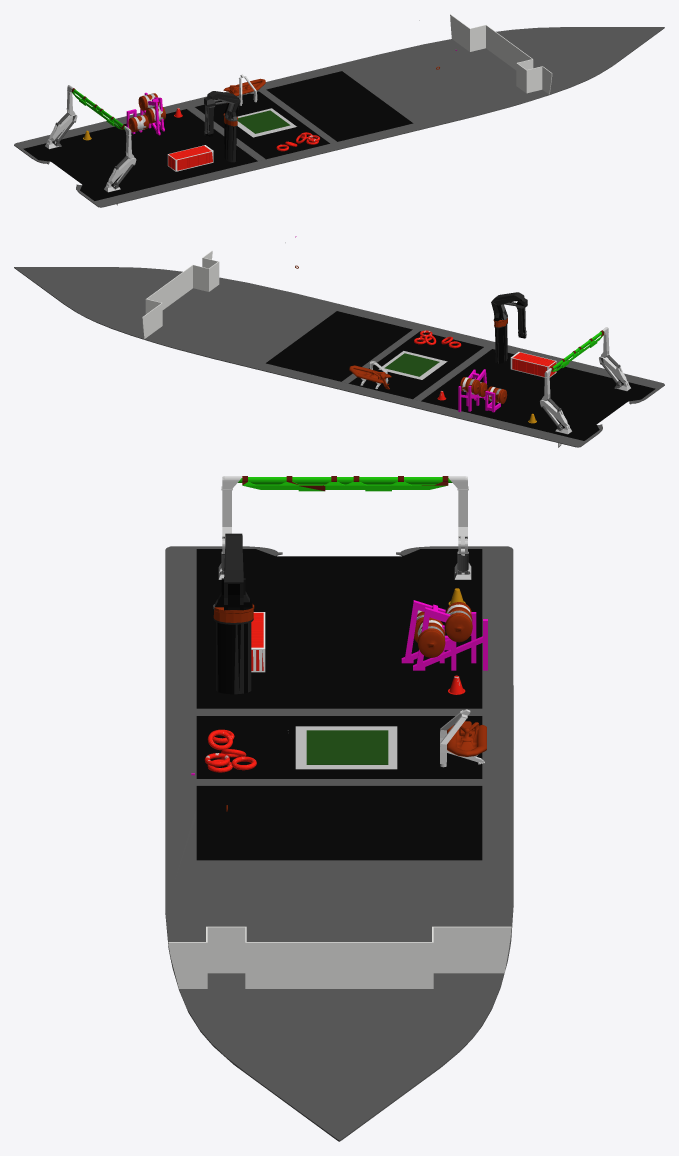
The model's file is hayvard2_main_deck.obj.
3 views of the same model, one above another, from view 1: azimuth 30°, elevation 25°; view 2: azimuth 150°, elevation 25°; view 3: azimuth 270°, elevation 25° (orthographic). The views are drawn at different scales.
Parts seen in each view (by area): view 1: node8.004, node1.004, node2.004, node0.005, RCRV_Sparse.074, Container_1.001, Cube.003, Effer_Crane_Right, Effer_Crane_Left, node6.004, Effer_Crane_Middle, Plane (+2 smaller); view 2: node8.004, node1.004, node2.004, node0.005, RCRV_Sparse.074, Container_1.001, Cube.003, Effer_Crane_Left, Effer_Crane_Right, node4.001, Effer_Crane_Middle, Plane (+2 smaller); view 3: node8.004, node1.004, node2.004, node0.005, RCRV_Sparse.074, Cube.003, Effer_Crane_Middle, node6.004, node4.001, Plane, Life_Raft_Frame_B2, Effer_Crane_Left (+2 smaller).
Part boxes in pixels (box(x1,y1,x2,y2)): node8.004: box(14, 27, 664, 207); node1.004: box(23, 109, 257, 200); node2.004: box(195, 71, 413, 159); node0.005: box(450, 14, 552, 94); RCRV_Sparse.074: box(204, 91, 240, 162); Container_1.001: box(167, 145, 213, 171); Cube.003: box(237, 110, 290, 133); Effer_Crane_Right: box(104, 126, 136, 205); Effer_Crane_Left: box(45, 85, 77, 149); node6.004: box(259, 89, 336, 143); Effer_Crane_Middle: box(71, 88, 125, 129); Plane: box(237, 108, 296, 137); node8.004: box(14, 267, 664, 447); node1.004: box(421, 349, 655, 440); node2.004: box(266, 311, 483, 399); node0.005: box(142, 250, 219, 339); RCRV_Sparse.074: box(491, 292, 527, 363); Container_1.001: box(510, 352, 556, 377); Cube.003: box(384, 353, 439, 376); Effer_Crane_Left: box(540, 368, 571, 447); Effer_Crane_Right: box(599, 327, 630, 391); node4.001: box(413, 347, 490, 400); Effer_Crane_Middle: box(551, 330, 604, 371); Plane: box(378, 351, 447, 379); node8.004: box(165, 546, 513, 1141); node1.004: box(196, 549, 482, 708); node2.004: box(196, 716, 482, 860); node0.005: box(168, 926, 511, 988); RCRV_Sparse.074: box(213, 533, 254, 694); Cube.003: box(306, 730, 388, 764); Effer_Crane_Middle: box(238, 476, 452, 491); node6.004: box(196, 779, 482, 785); node4.001: box(196, 709, 482, 715); Plane: box(295, 726, 397, 769); Life_Raft_Frame_B2: box(413, 604, 487, 670); Effer_Crane_Left: box(448, 476, 471, 579).
Size of the model in its own units: 1.38 by 0.2151 by 0.3424.
